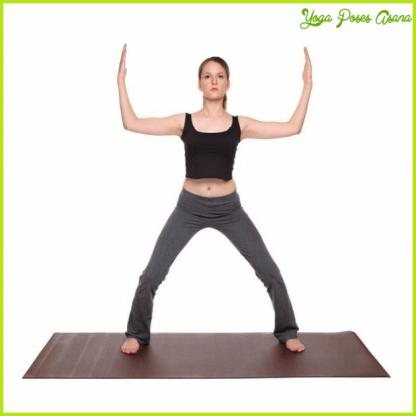godness: (102, 37, 326, 360)
